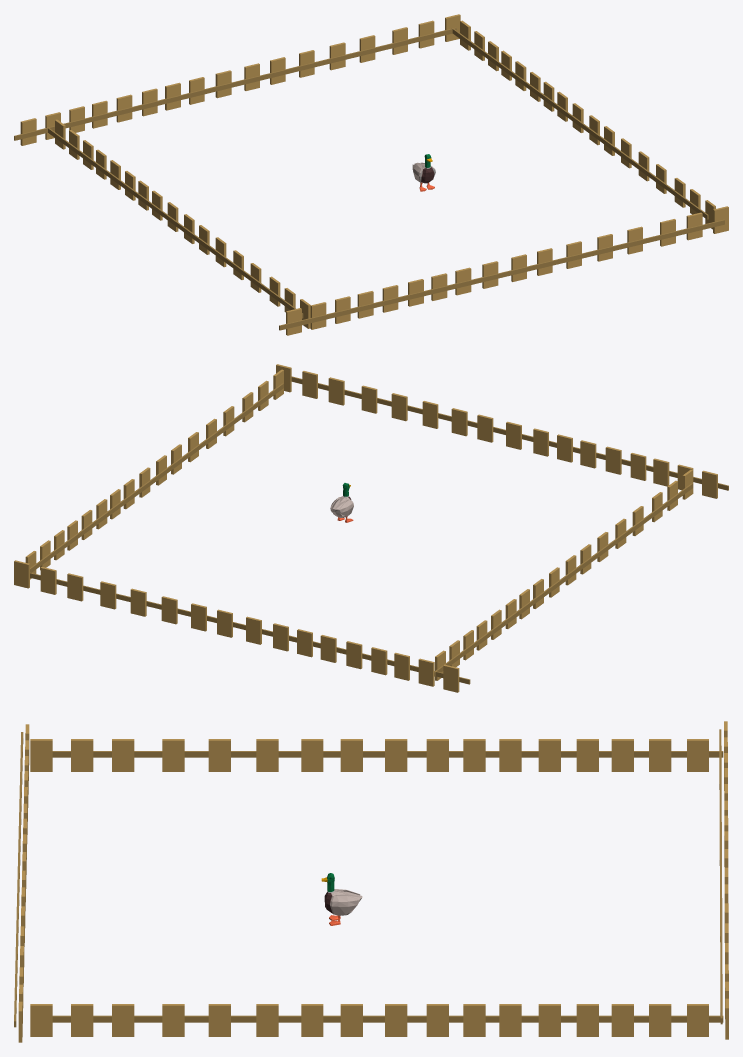
File: cerca.gltf
The picture shows the model from 3 angles, top to bottom: view 1: azimuth 30°, elevation 25°; view 2: azimuth 150°, elevation 25°; view 3: azimuth 270°, elevation 25°; orthographic projection. The views are drawn at different scales.
Visible parts, largest first — view 1: linea (×4); view 2: linea (×4); view 3: linea (×4), Box 4 (×2), Box 11 (×2), Box 12 (×2), Box 13 (×2), Box 16 (×2), Box 17 (×2), Box 2 (×2), Box 5 (×2), Box 7 (×2), Box 6 (×2), Box 8 (×2) (+7 smaller).
Part boxes in pixels (box(x1,y1,x2,y2)): linea (×4): box(14, 27, 724, 330); linea (×4): box(30, 376, 728, 684); linea (×4): box(14, 729, 723, 1027); Box 4 (×2): box(256, 739, 278, 1036); Box 11 (×2): box(208, 739, 230, 1036); Box 12 (×2): box(162, 739, 184, 1036); Box 13 (×2): box(112, 739, 134, 1036); Box 16 (×2): box(71, 739, 93, 1036); Box 17 (×2): box(30, 739, 52, 1036); Box 2 (×2): box(340, 739, 362, 1036); Box 5 (×2): box(426, 739, 448, 1036); Box 7 (×2): box(463, 739, 485, 1036); Box 6 (×2): box(499, 739, 521, 1036); Box 8 (×2): box(538, 739, 560, 1036).
Size of the model in its own units: 29.67 by 2.26 by 30.31.
